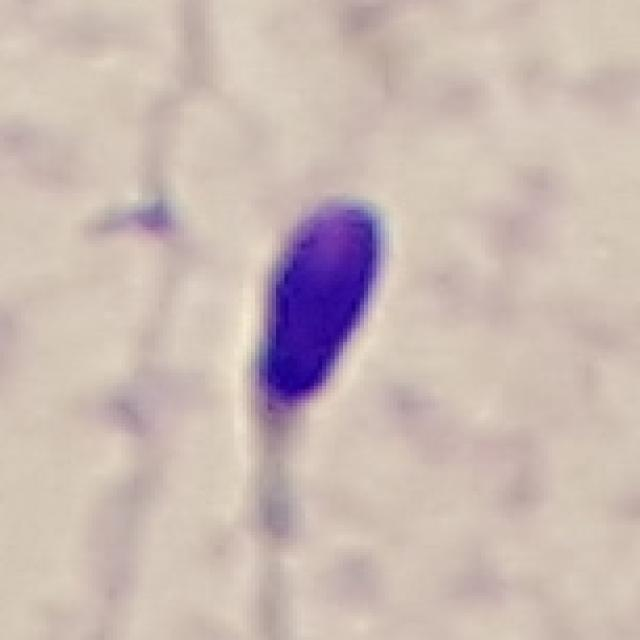abnormal sperm: (236, 185, 387, 607)
